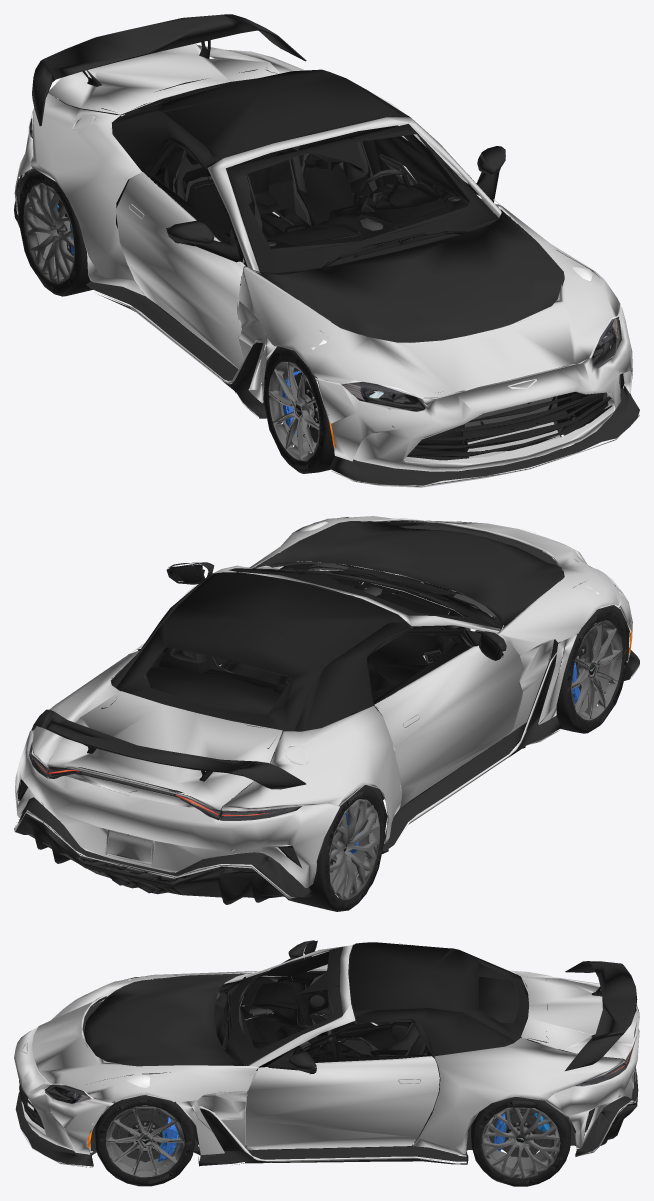
File: aston_martin_vantage_opt.glb
The picture shows the model from 3 angles, top to bottom: view 1: azimuth 30°, elevation 25°; view 2: azimuth 150°, elevation 25°; view 3: azimuth 270°, elevation 25°; orthographic projection. The views are drawn at different scales.
Parts seen in each view (by area): view 1: Paint_15, Carbon1_13, Coloured_14, Glass_21, Interior_11, Wheel1A_RR_27, Wheel2A_RF_25, Light_17, Carbon1M_1, Grille3_5, Base_12; view 2: Paint_15, Coloured_14, Carbon1_13, Glass_21, Interior_11, Wheel1A_RR_27, Wheel2A_RF_25, Light_17, Base_12, LicensePlate_16, Carbon1M_1, Grille1_3 (+1 smaller); view 3: Paint_15, Carbon1_13, Coloured_14, Glass_21, Interior_11, Wheel2A_LF_24, Wheel1A_LR_26, Base_12, Light_17, Carbon1M_1, Engine_2, CaliperLF_23.
Boxes of the visible parts, x1=… form: Paint_15: x1=14, y1=43, x2=639, y2=487; Carbon1_13: x1=14, y1=14, x2=639, y2=485; Coloured_14: x1=48, y1=40, x2=612, y2=470; Glass_21: x1=15, y1=94, x2=621, y2=446; Interior_11: x1=73, y1=106, x2=479, y2=368; Wheel1A_RR_27: x1=18, y1=170, x2=119, y2=296; Wheel2A_RF_25: x1=263, y1=347, x2=335, y2=473; Light_17: x1=16, y1=58, x2=620, y2=411; Carbon1M_1: x1=173, y1=137, x2=599, y2=392; Grille3_5: x1=465, y1=397, x2=560, y2=458; Base_12: x1=17, y1=102, x2=618, y2=469; Paint_15: x1=14, y1=516, x2=639, y2=898; Coloured_14: x1=18, y1=525, x2=560, y2=893; Carbon1_13: x1=14, y1=521, x2=639, y2=904; Glass_21: x1=27, y1=567, x2=631, y2=871; Interior_11: x1=137, y1=573, x2=488, y2=808; Wheel1A_RR_27: x1=282, y1=786, x2=385, y2=911; Wheel2A_RF_25: x1=556, y1=606, x2=627, y2=733; Light_17: x1=29, y1=632, x2=630, y2=871; Base_12: x1=18, y1=568, x2=629, y2=897; LicensePlate_16: x1=105, y1=829, x2=153, y2=866; Carbon1M_1: x1=174, y1=517, x2=591, y2=673; Grille1_3: x1=18, y1=525, x2=557, y2=868; Paint_15: x1=14, y1=945, x2=639, y2=1167; Carbon1_13: x1=16, y1=940, x2=638, y2=1167; Coloured_14: x1=19, y1=940, x2=636, y2=1145; Glass_21: x1=45, y1=950, x2=636, y2=1148; Interior_11: x1=240, y1=951, x2=577, y2=1149; Wheel2A_LF_24: x1=95, y1=1095, x2=195, y2=1186; Wheel1A_LR_26: x1=471, y1=1097, x2=570, y2=1186; Base_12: x1=45, y1=949, x2=637, y2=1156; Light_17: x1=45, y1=1009, x2=637, y2=1146; Carbon1M_1: x1=86, y1=975, x2=428, y2=1084; Engine_2: x1=44, y1=972, x2=254, y2=1101; CaliperLF_23: x1=158, y1=1116, x2=178, y2=1161.
Size of what is drawn, in the model's own units: 2.15 by 1.27 by 4.51.
28 materials, 5 textured.
